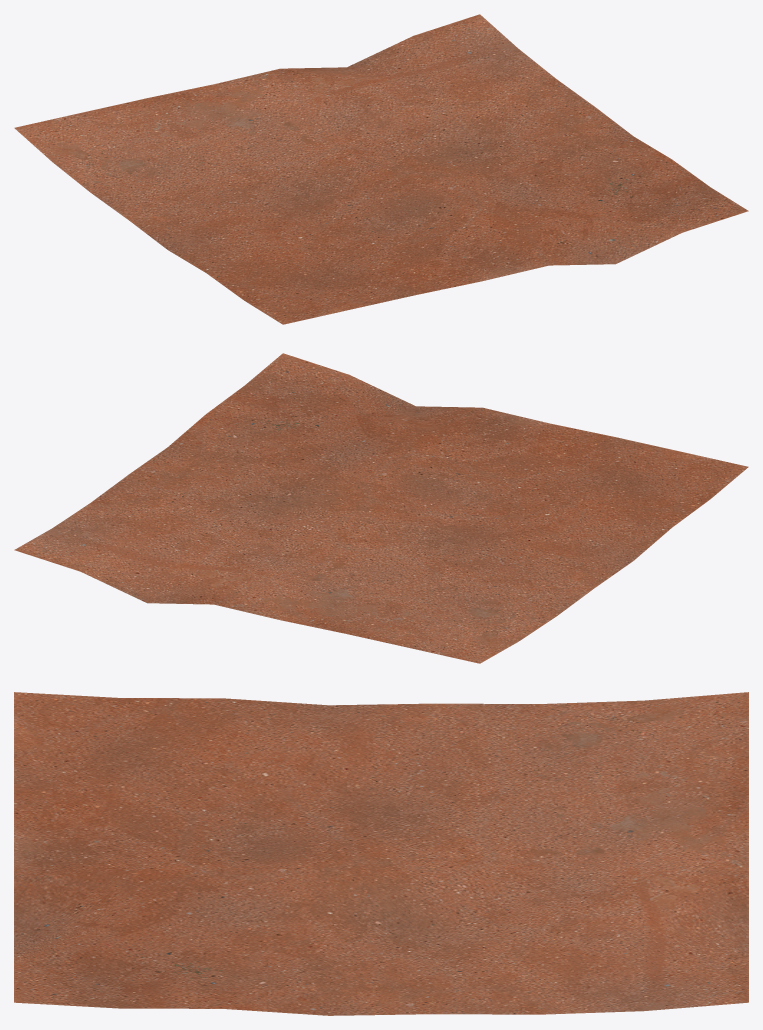
The model's file is Ground_flat_02_M02_LOD2.fbx.
The picture shows the model from 3 angles, top to bottom: view 1: azimuth 30°, elevation 25°; view 2: azimuth 150°, elevation 25°; view 3: azimuth 270°, elevation 25°; orthographic projection. The views are drawn at different scales.
Visible parts, largest first — view 1: Ground_flat_02_M02_LOD2; view 2: Ground_flat_02_M02_LOD2; view 3: Ground_flat_02_M02_LOD2.
Boxes of the visible parts, x1,y1,x2,y2 form: Ground_flat_02_M02_LOD2: [14, 14, 748, 324]; Ground_flat_02_M02_LOD2: [14, 353, 748, 663]; Ground_flat_02_M02_LOD2: [14, 692, 748, 1015].
Size of the model in its own units: 2000 by 85.88 by 2000.
